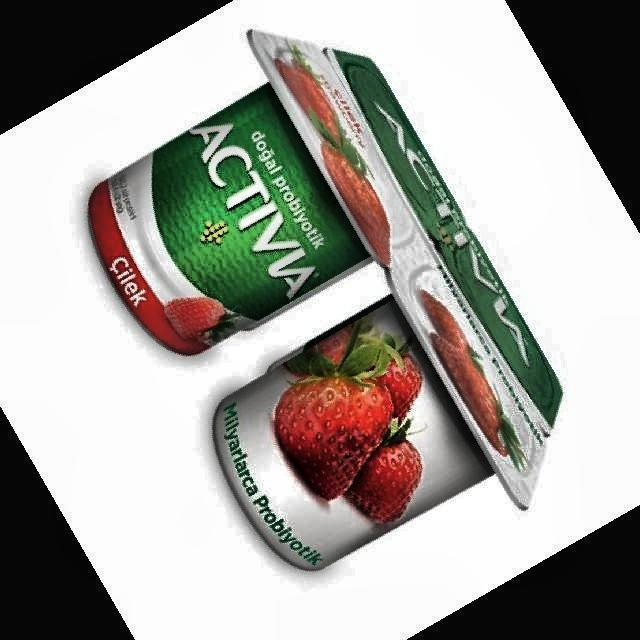plastic: (89, 31, 562, 569)
